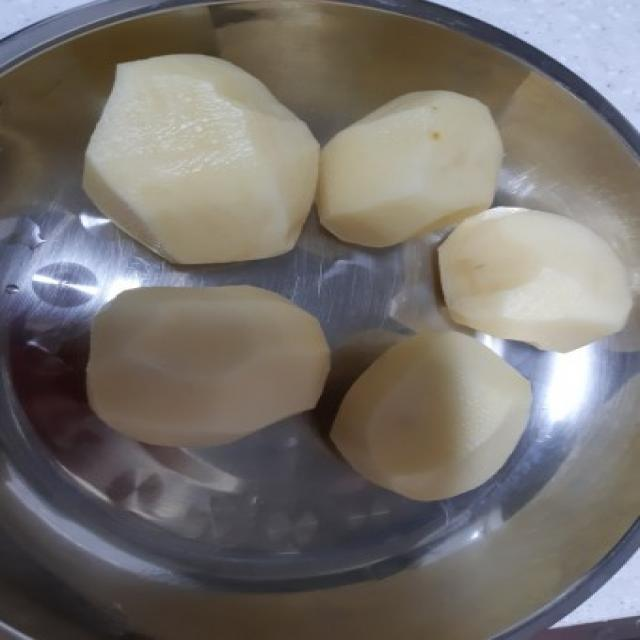potato: (82, 46, 327, 264), (84, 280, 330, 452), (328, 327, 538, 507), (428, 202, 639, 354), (314, 82, 506, 249)
